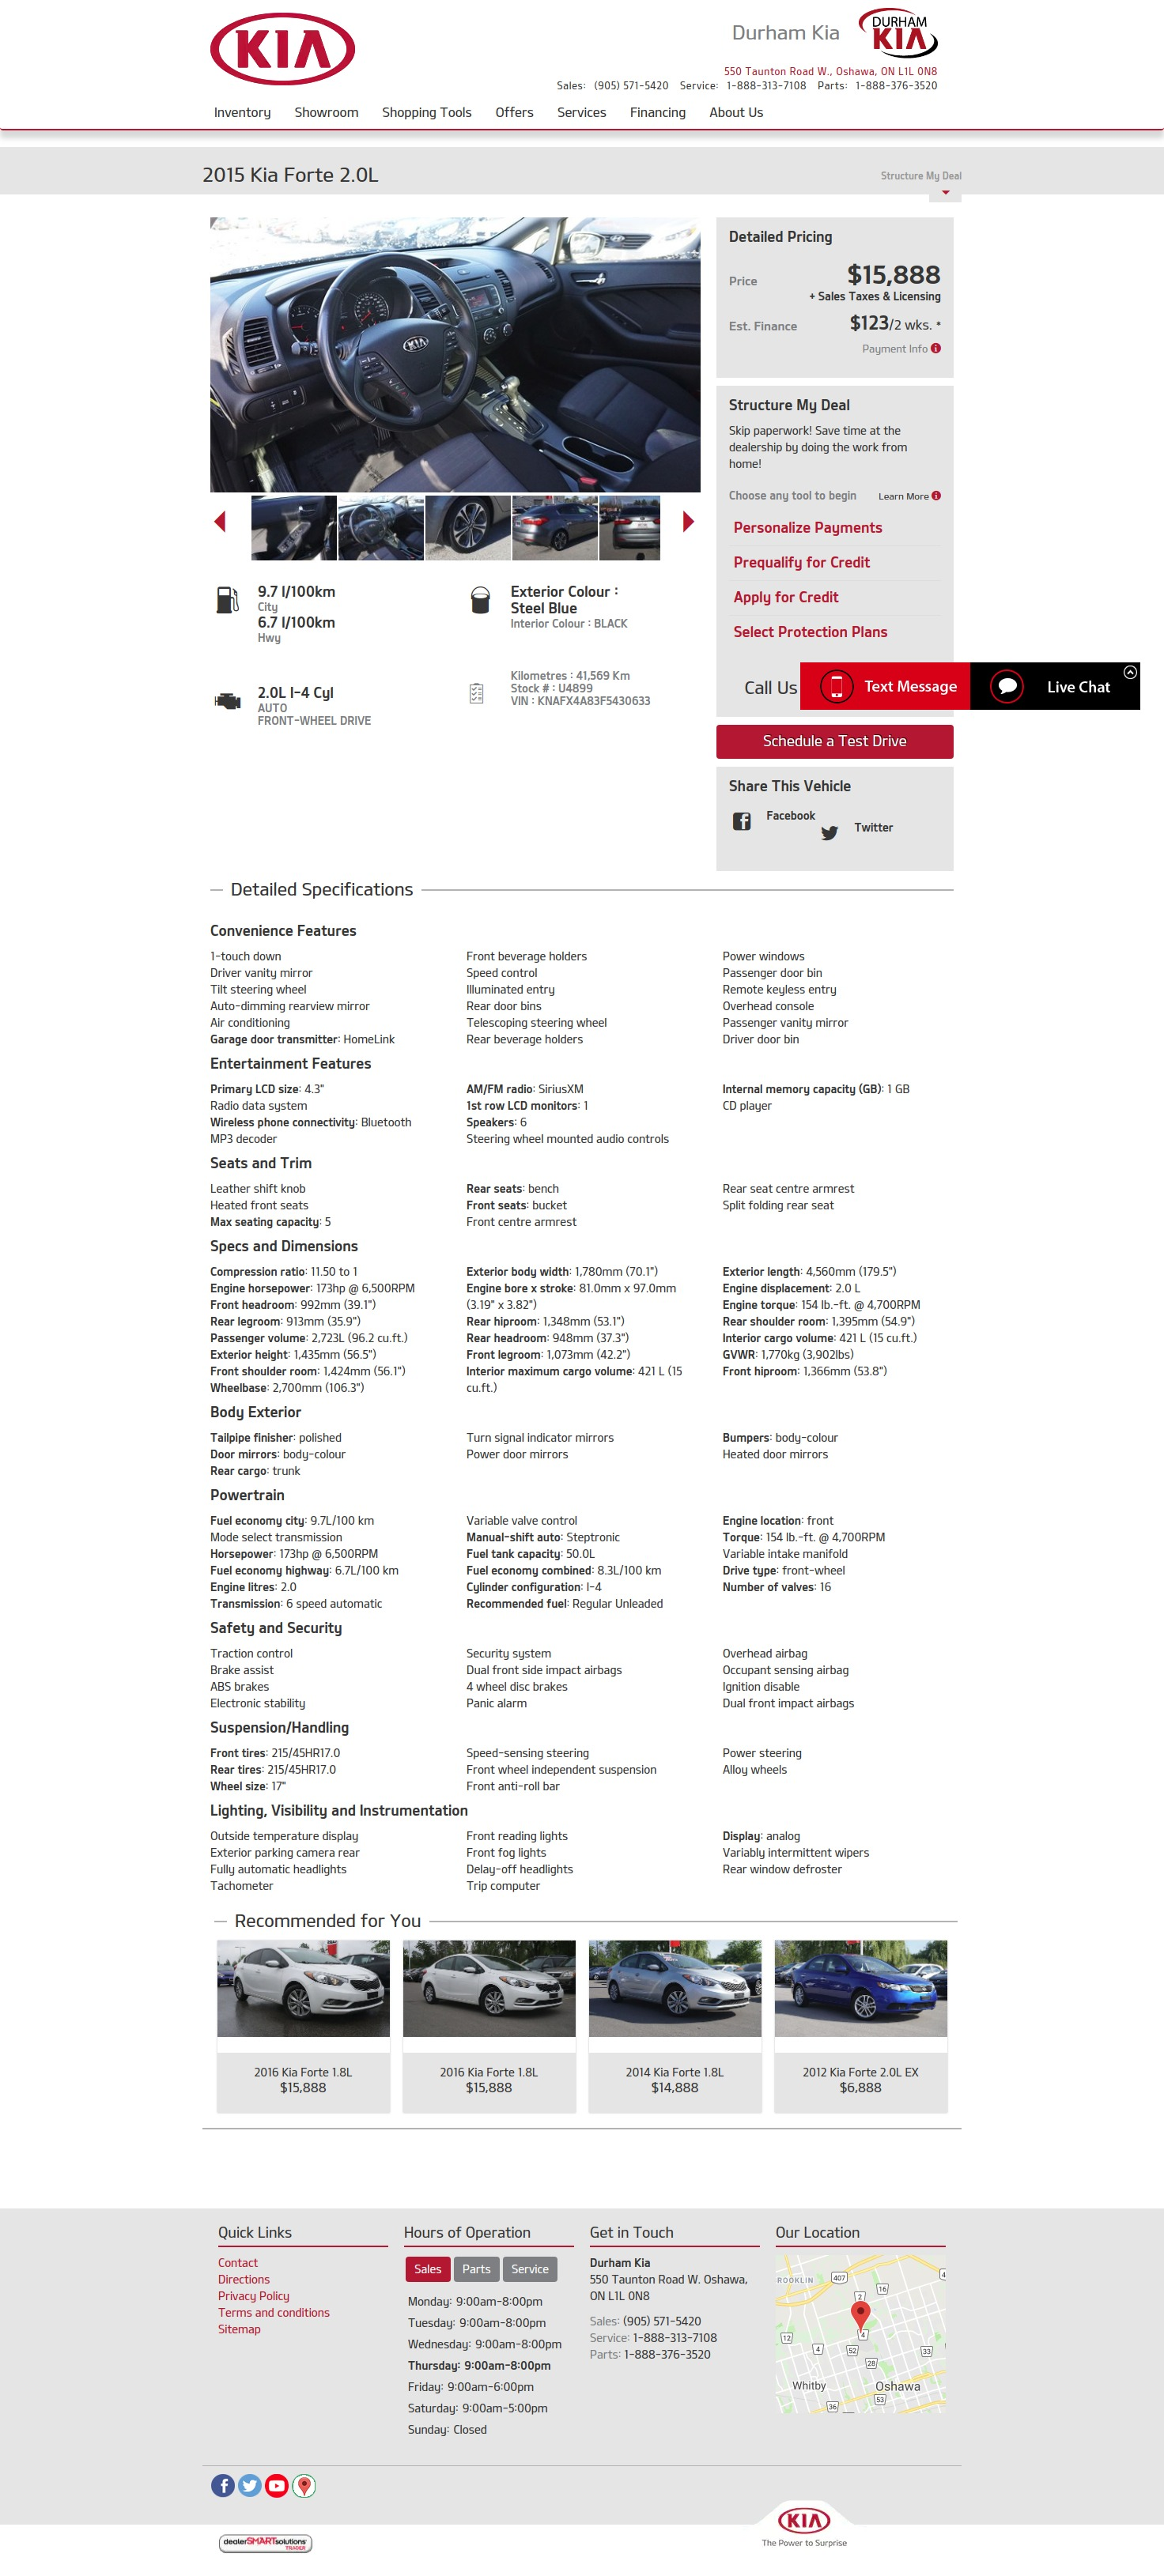car: (684, 513, 694, 534)
